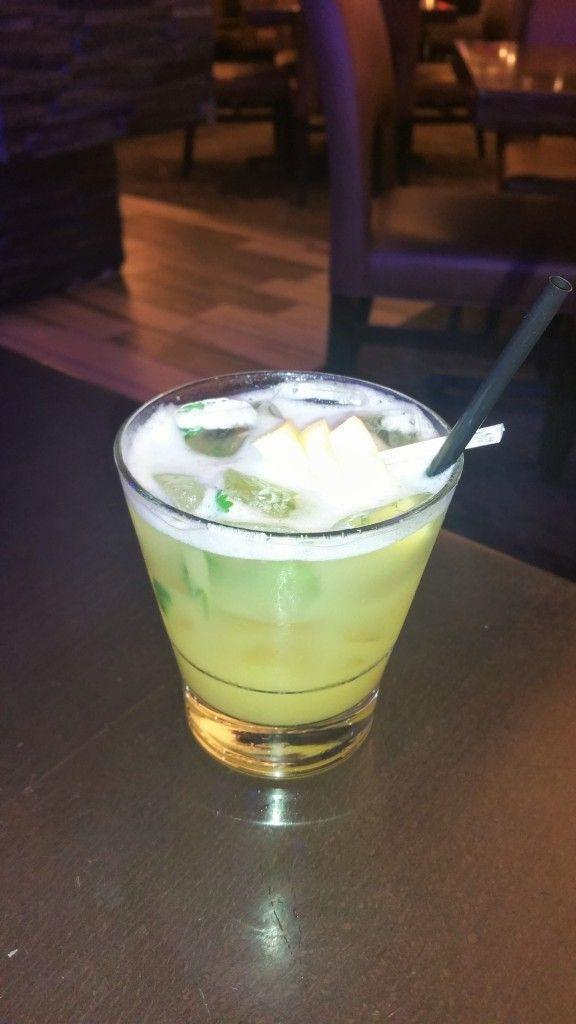glass-normal: (111, 367, 471, 782)
